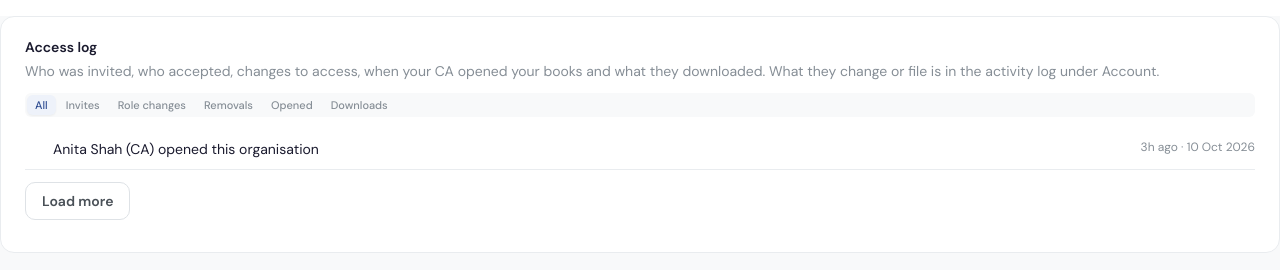
Test: AccessLogCard › Load more fetches the next page with the cursor and appends it
The width and height of the screenshot is (1280, 270).
Expected: the number of list items with test id "access-log-row" is 1, [53,139,1255,158]
Click the button "Load more" at (78, 201), box [25,182,130,220]
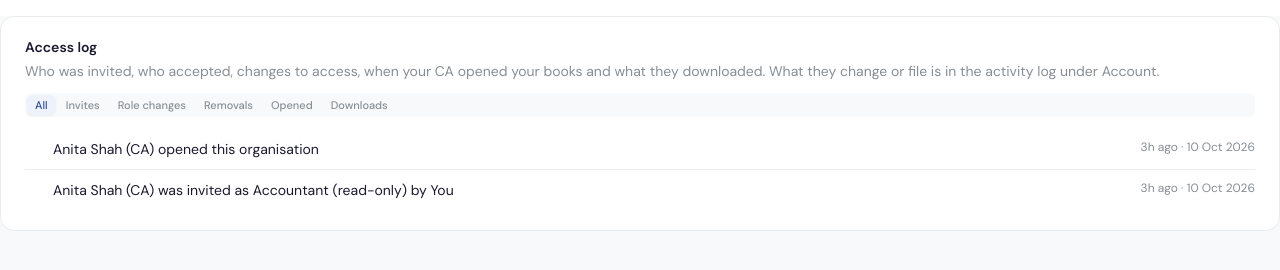
Now the number of list items with test id "access-log-row" is 2, box [53,139,1255,158]; [25,169,1255,210]
Now the button "Load more" is gone
